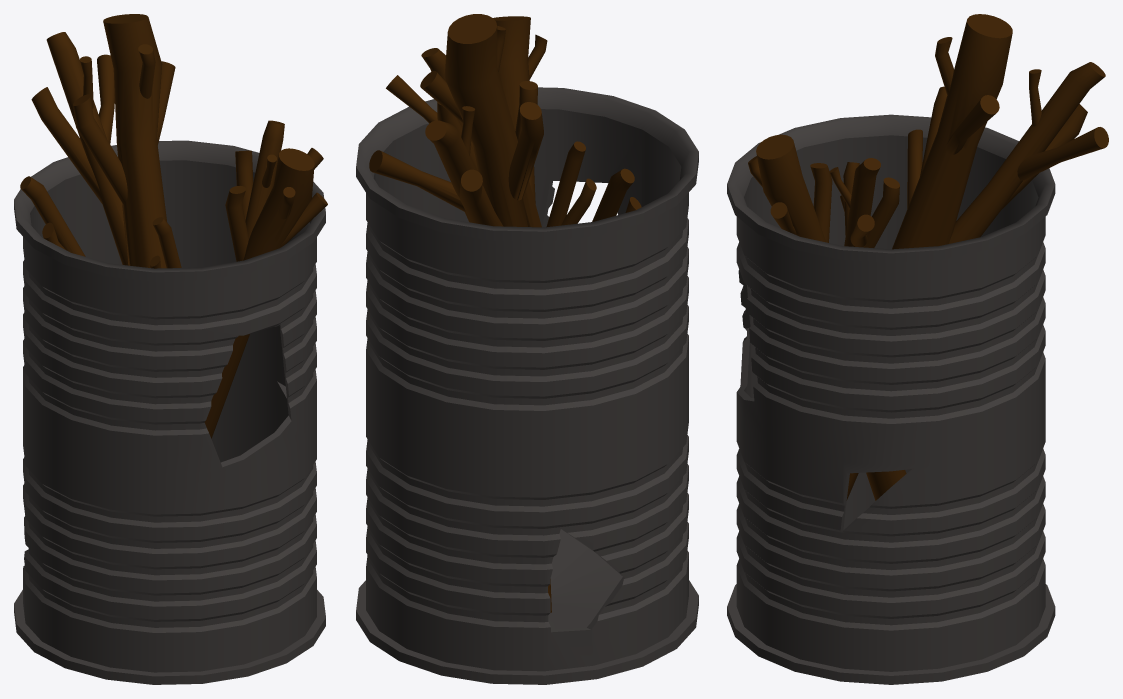
File: 48_fire_barrel.fbx
The picture shows the model from 3 angles, left to right: view 1: azimuth 30°, elevation 25°; view 2: azimuth 150°, elevation 25°; view 3: azimuth 270°, elevation 25°; orthographic projection. The views are drawn at different scales.
Parts seen in each view (by area): view 1: pPipe4, pCylinder134, pCylinder133; view 2: pPipe4, pCylinder134, pCylinder133; view 3: pPipe4, pCylinder134, pCylinder133.
Boxes of the visible parts, left/top/right/bottom form: pPipe4: left=14, top=140, right=325, bottom=684; pCylinder134: left=20, top=14, right=175, bottom=268; pCylinder133: left=150, top=120, right=327, bottom=438; pPipe4: left=356, top=87, right=698, bottom=684; pCylinder134: left=369, top=14, right=641, bottom=227; pCylinder133: left=386, top=16, right=596, bottom=612; pPipe4: left=727, top=114, right=1055, bottom=684; pCylinder134: left=846, top=14, right=1108, bottom=500; pCylinder133: left=748, top=134, right=906, bottom=500.
Bounding box in the file's own units: 1.01 × 1.99 × 1.16.
